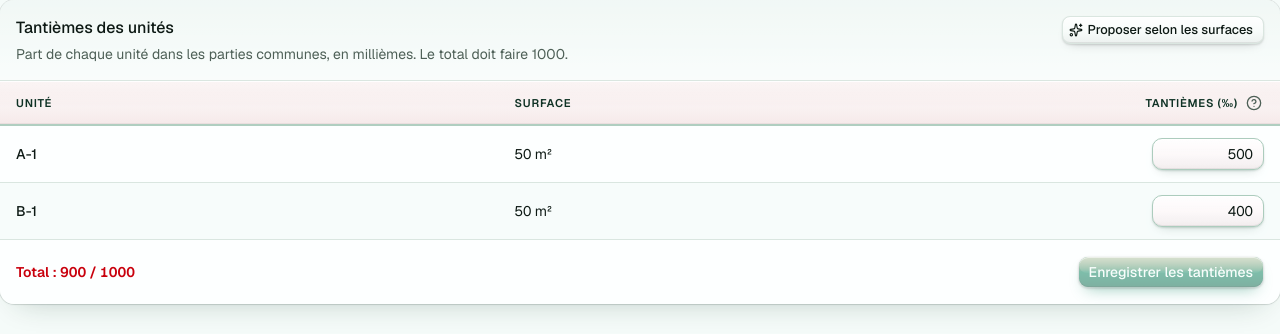
Test case: SharesTable › suggests thousandths from surfaces
Click the button "Proposer selon les surfaces": (1163, 30) [1062,16,1264,44]
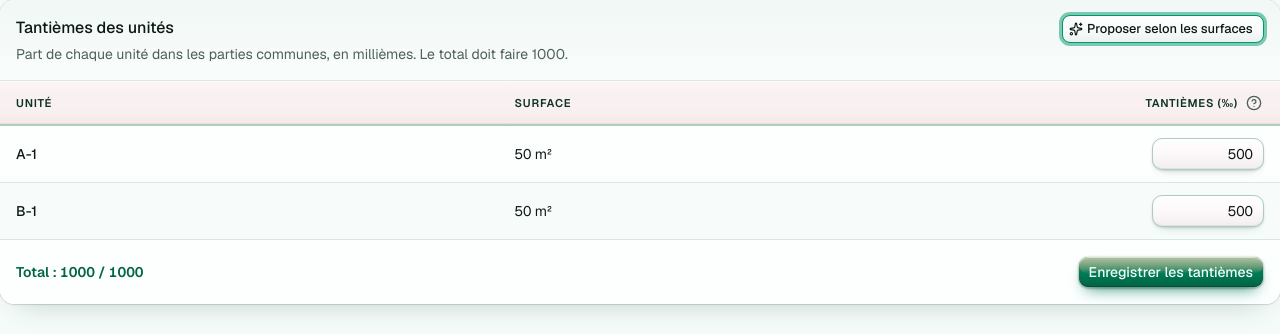
Check: the field named "Tantièmes de A-1" holds "500", box [1152,138,1264,170]
Check: the field named "Tantièmes de B-1" holds "500", box [1152,195,1264,227]
